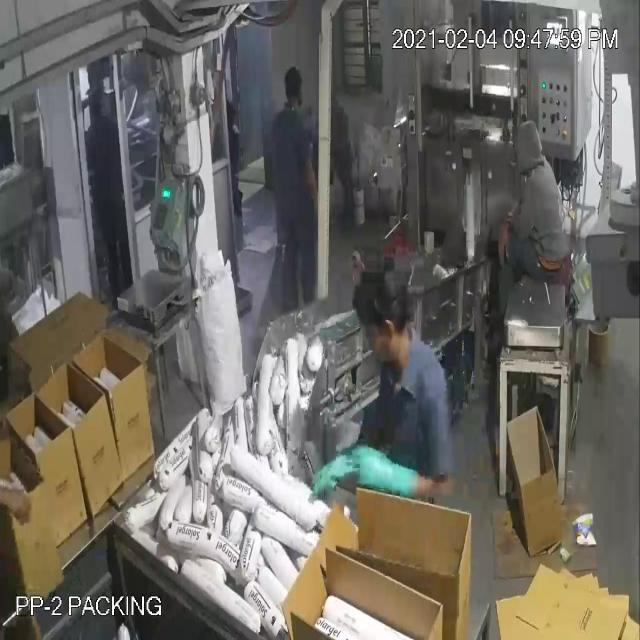Gloves: (28, 62, 502, 476)
